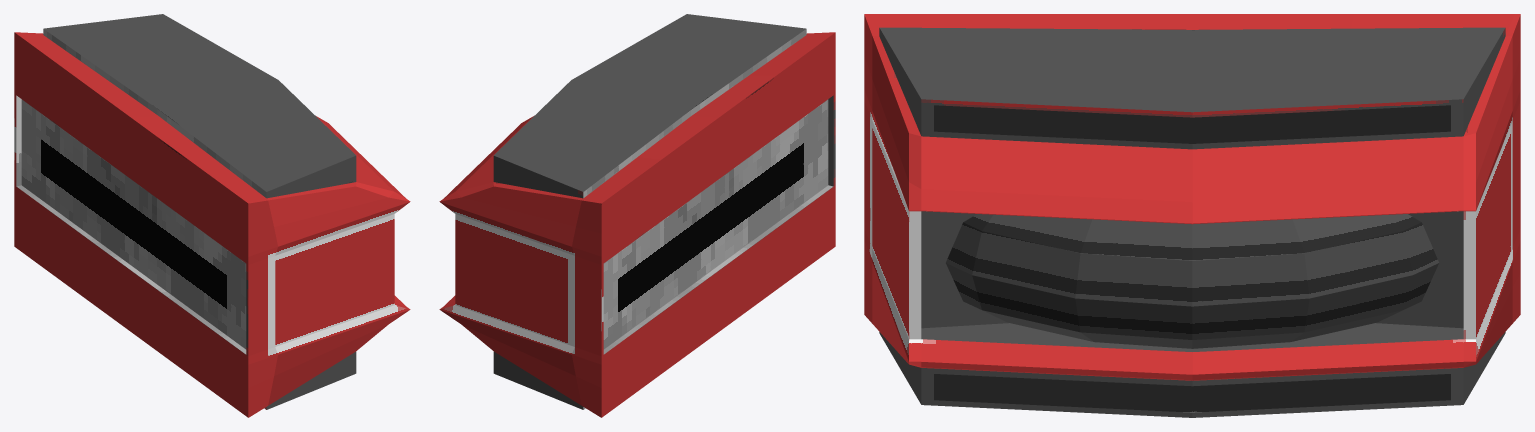
File: MeeankarPowerplant.glb
The picture shows the model from 3 angles, left to right: view 1: azimuth 30°, elevation 25°; view 2: azimuth 150°, elevation 25°; view 3: azimuth 270°, elevation 25°; orthographic projection. The views are drawn at different scales.
Parts seen in each view (by area): view 1: Powerplant; view 2: Powerplant; view 3: Powerplant.
Part boxes in pixels (bbox=[...]): Powerplant: bbox=[14, 14, 410, 417]; Powerplant: bbox=[439, 14, 835, 417]; Powerplant: bbox=[864, 14, 1520, 417].
Size of the model in its own units: 0.9979 by 1 by 1.95.
1 material, 1 textured.
